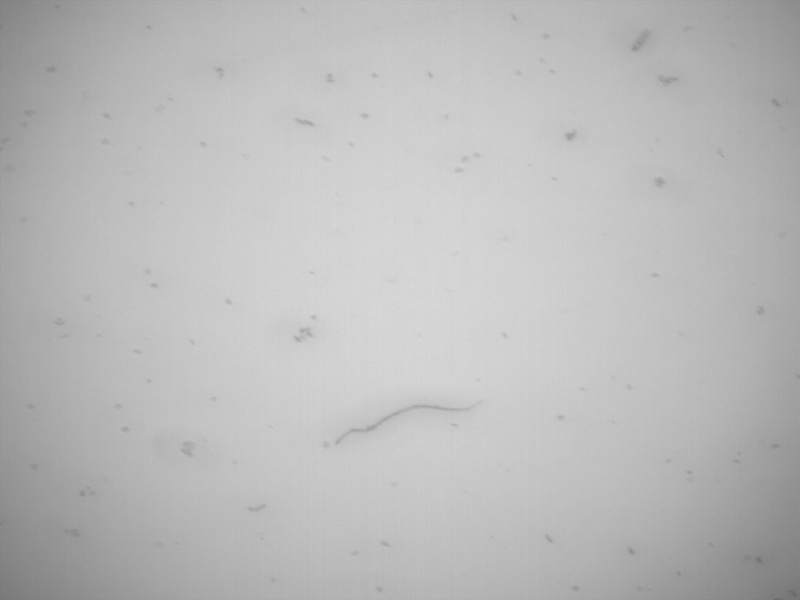fiber: (333, 398, 481, 443)
